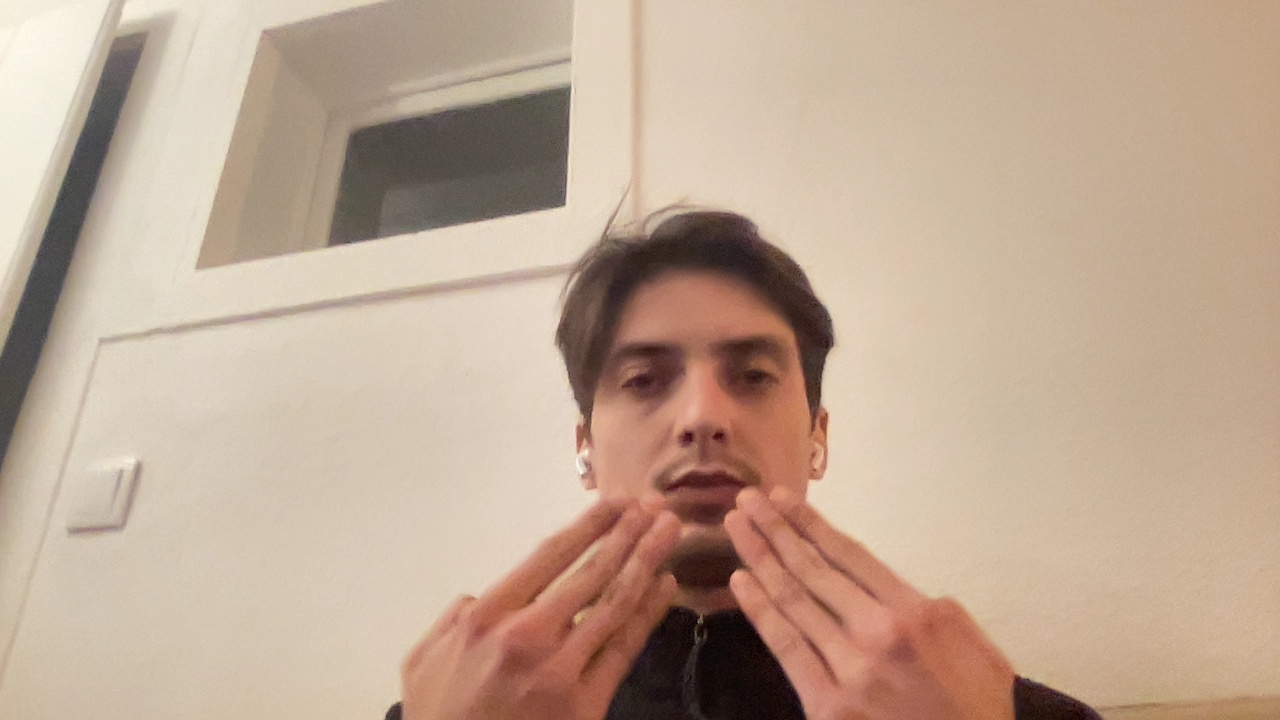Thank you: (374, 444, 688, 720), (710, 460, 1034, 720)
